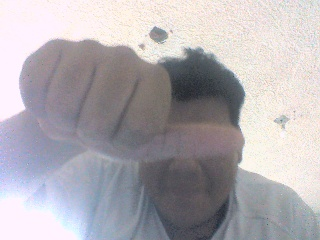Izquierda: (12, 31, 256, 186)
